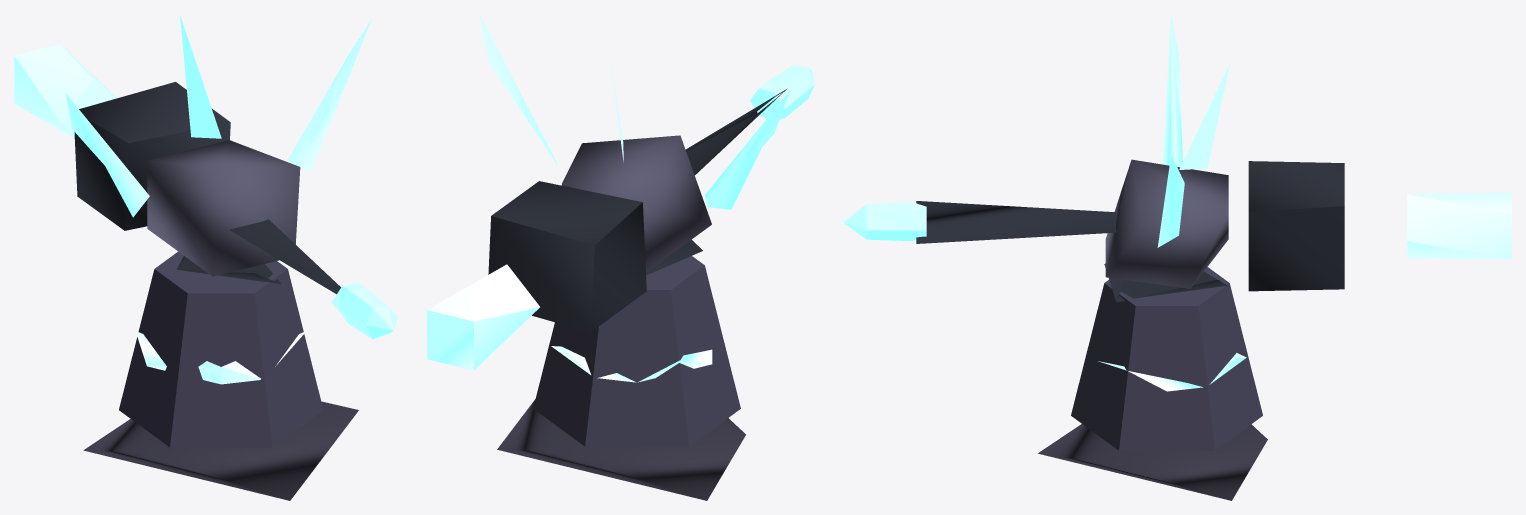
Rendered from lumen_turret_lod2.glb.
3 renders of one model, left to right at view 1: azimuth 30°, elevation 25°; view 2: azimuth 150°, elevation 25°; view 3: azimuth 270°, elevation 25°, orthographic. The views are drawn at different scales.
Visible parts, largest first — view 1: enemy.lumen_turret; view 2: enemy.lumen_turret; view 3: enemy.lumen_turret.
Part boxes in pixels (x1=…): enemy.lumen_turret: x1=14, y1=15, x2=398, y2=500; enemy.lumen_turret: x1=427, y1=15, x2=814, y2=500; enemy.lumen_turret: x1=843, y1=15, x2=1511, y2=500.
Bounding box in the file's own units: 1.81 × 2.33 × 3.65.
